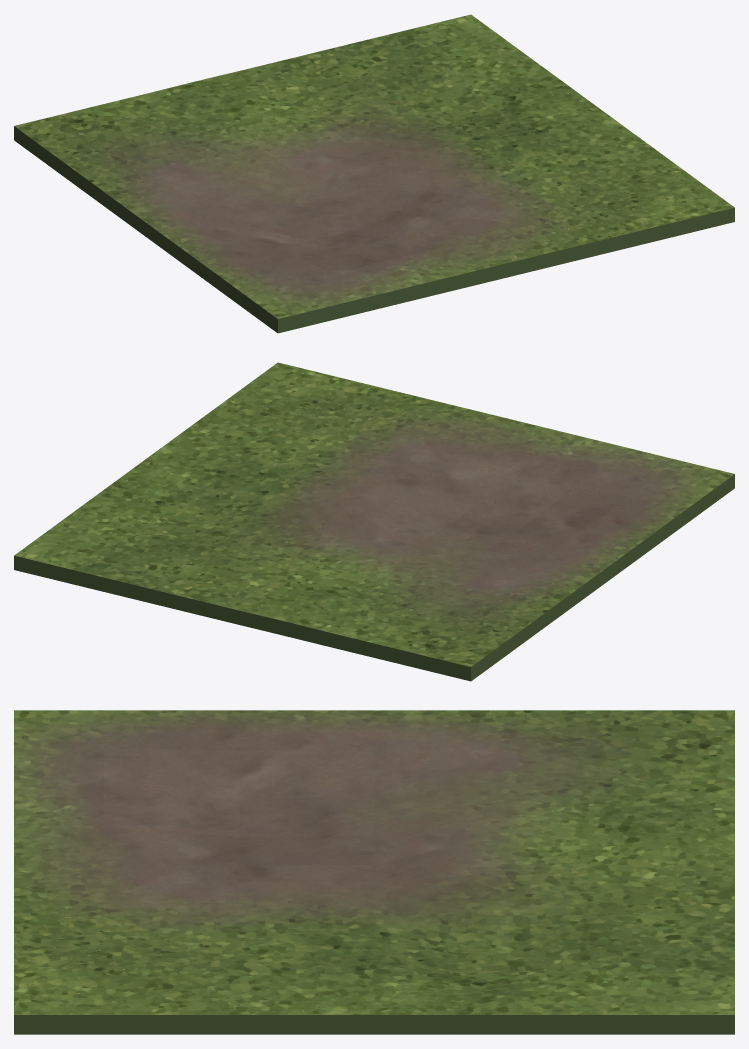
Rendered from 3DObj_Grassland_V3.fbx.
The picture shows the model from 3 angles, top to bottom: view 1: azimuth 30°, elevation 25°; view 2: azimuth 150°, elevation 25°; view 3: azimuth 270°, elevation 25°; orthographic projection. The views are drawn at different scales.
Visible parts, largest first — view 1: 3DObj_Grassland_V3; view 2: 3DObj_Grassland_V3; view 3: 3DObj_Grassland_V3.
Part boxes in pixels (x1,y1,x2,y2): 3DObj_Grassland_V3: (14,14,734,333); 3DObj_Grassland_V3: (14,362,734,681); 3DObj_Grassland_V3: (14,710,734,1034).
Bounding box in the file's own units: 1000 × 36.36 × 1000.
Materials: 1 (1 with a texture image).
